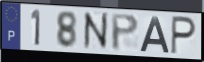1: (30, 8, 41, 48)
8: (55, 9, 78, 50)
A: (138, 15, 170, 54)
N: (82, 11, 110, 52)
P: (110, 13, 141, 53), (169, 14, 198, 56)
